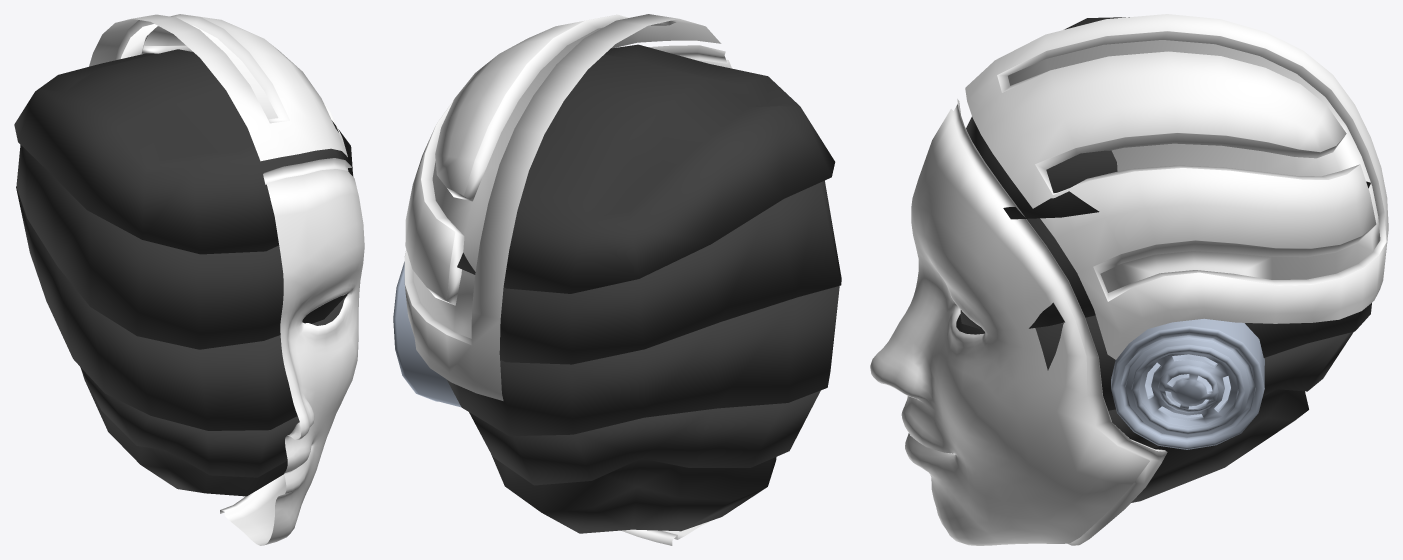
File: head.dae
The picture shows the model from 3 angles, left to right: view 1: azimuth 30°, elevation 25°; view 2: azimuth 150°, elevation 25°; view 3: azimuth 270°, elevation 25°; orthographic projection. The views are drawn at different scales.
Parts seen in each view (by area): view 1: Cube_005, Mesh_003, Mesh_000; view 2: Cube_005, Mesh_000, Circle, Mesh_003; view 3: Mesh_000, Mesh_003, Cube_005, Circle.
Boxes of the visible parts, x1,y1,x2,y2 form: Cube_005: [14, 49, 352, 496]; Mesh_003: [220, 158, 364, 545]; Mesh_000: [89, 14, 347, 161]; Cube_005: [447, 44, 841, 533]; Mesh_000: [404, 14, 721, 400]; Circle: [393, 261, 460, 407]; Mesh_003: [621, 45, 731, 545]; Mesh_000: [965, 14, 1388, 359]; Mesh_003: [870, 98, 1167, 545]; Cube_005: [956, 17, 1371, 502]; Circle: [1111, 318, 1264, 449].
Bounding box in the file's own units: 2.61 × 3.49 × 3.88.
